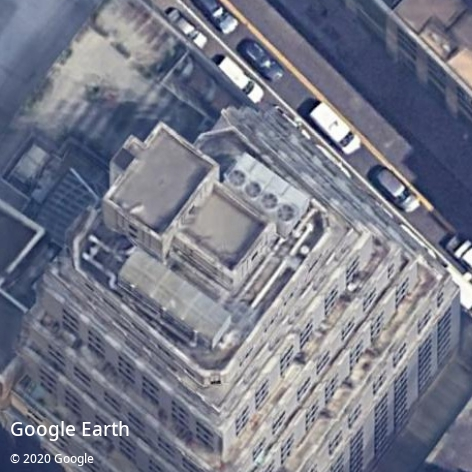Vent: (244, 181, 262, 198), (228, 170, 245, 187), (277, 205, 294, 222), (262, 193, 278, 210)
